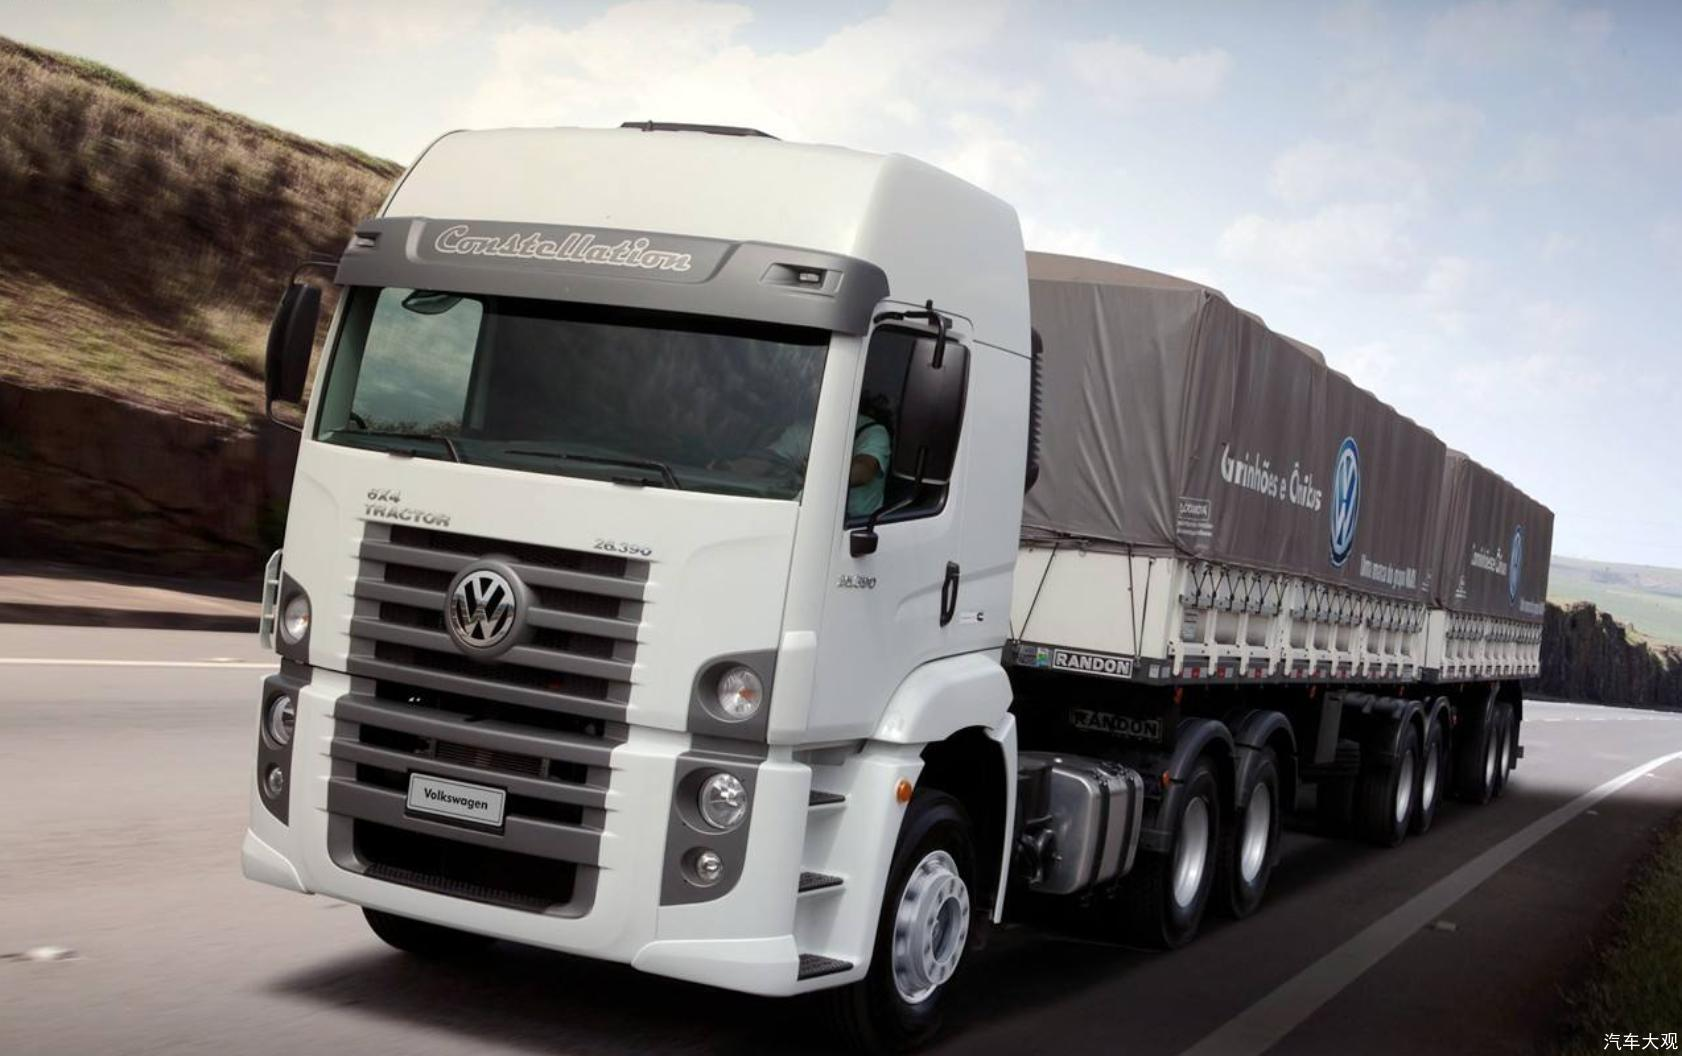truck: (231, 75, 1564, 1056)
